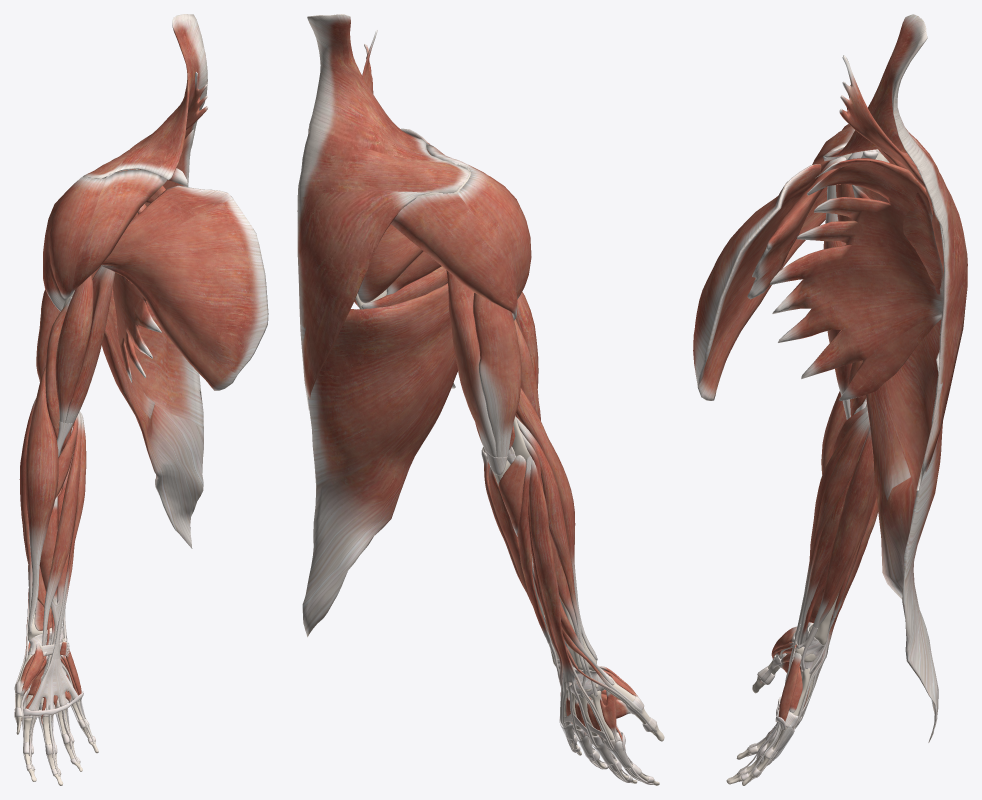
The model's file is upper-muscles-uncovered-base.glb.
3 renders of one model, left to right at view 1: azimuth 30°, elevation 25°; view 2: azimuth 150°, elevation 25°; view 3: azimuth 270°, elevation 25°, orthographic. The views are drawn at different scales.
Parts seen in each view (by area): view 1: Pectoralis major.r, Latissimus dorsi.r, Deltoid muscle.r, Trapezius muscle.r, Brachioradialis muscle.r, Long head of biceps brachii.r, Serratus anterior muscle.r, Flexor carpi radialis.r, Short head of biceps brachii.r, Flexor digitorum superficialis humero-ulnar head.r, Brachialis muscle.r, Aponeurosis palmaris.r (+8 smaller); view 2: Latissimus dorsi.r, Trapezius muscle.r, Deltoid muscle.r, Lateral head of triceps brachii.r, Extensor digitorum.r, Long head of triceps brachii.r, Extensor carpi radialis longus.r, Infraspinatus muscle.r, Brachioradialis muscle.r, Humeral head of extensor carpi ulnaris.r, Anconeus muscle.r, Teres major muscle.r (+6 smaller); view 3: Serratus anterior muscle.r, Latissimus dorsi.r, Trapezius muscle.r, Pectoralis major.r, Humeral head of flexor carpi ulnaris.r, Pectoralis minor muscle.r, Palmaris longus muscle.r, Subscapularis muscle.r, Levator scapulae.r, Flexor digitorum superficialis humero-ulnar head.r, Flexor carpi radialis.r, Brachioradialis muscle.r (+6 smaller).
Part boxes in pixels (x1,y1,x2,y2): Pectoralis major.r: (101,185,268,390); Latissimus dorsi.r: (102,287,203,548); Deltoid muscle.r: (43,169,167,311); Trapezius muscle.r: (82,14,207,186); Brachioradialis muscle.r: (25,365,58,633); Long head of biceps brachii.r: (55,275,93,422); Serratus anterior muscle.r: (113,168,188,382); Flexor carpi radialis.r: (42,411,81,660); Short head of biceps brachii.r: (65,266,114,423); Flexor digitorum superficialis humero-ulnar head.r: (28,451,88,757); Brachialis muscle.r: (45,297,75,455); Aponeurosis palmaris.r: (28,658,77,710); Latissimus dorsi.r: (301,283,457,637); Trapezius muscle.r: (297,14,469,409); Deltoid muscle.r: (391,143,531,320); Lateral head of triceps brachii.r: (473,293,521,457); Extensor digitorum.r: (529,458,637,777); Long head of triceps brachii.r: (446,270,496,457); Extensor carpi radialis longus.r: (516,417,597,696); Infraspinatus muscle.r: (357,224,423,303); Brachioradialis muscle.r: (516,388,597,660); Humeral head of extensor carpi ulnaris.r: (517,456,551,643); Anconeus muscle.r: (498,455,526,536); Teres major muscle.r: (361,266,447,309); Serratus anterior muscle.r: (770,158,943,400); Latissimus dorsi.r: (862,319,942,742); Trapezius muscle.r: (824,14,967,490); Pectoralis major.r: (693,164,827,400); Humeral head of flexor carpi ulnaris.r: (813,427,874,627); Pectoralis minor muscle.r: (747,156,846,299); Palmaris longus muscle.r: (791,416,869,659); Subscapularis muscle.r: (853,185,943,294); Levator scapulae.r: (839,55,925,188); Flexor digitorum superficialis humero-ulnar head.r: (756,435,867,766); Flexor carpi radialis.r: (809,411,868,559); Brachioradialis muscle.r: (821,391,846,474).
Size of the model in its own units: 0.3373 by 0.8829 by 0.2481.
43 materials, 9 textured.
